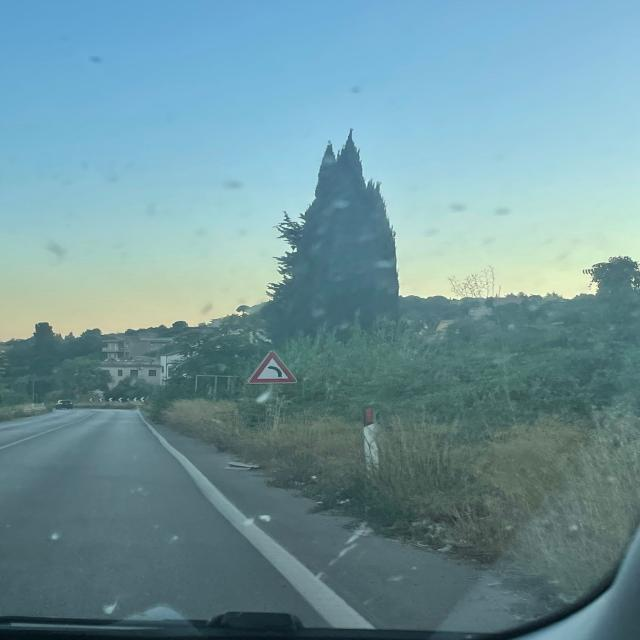warn_left_curve: (247, 350, 298, 383)
